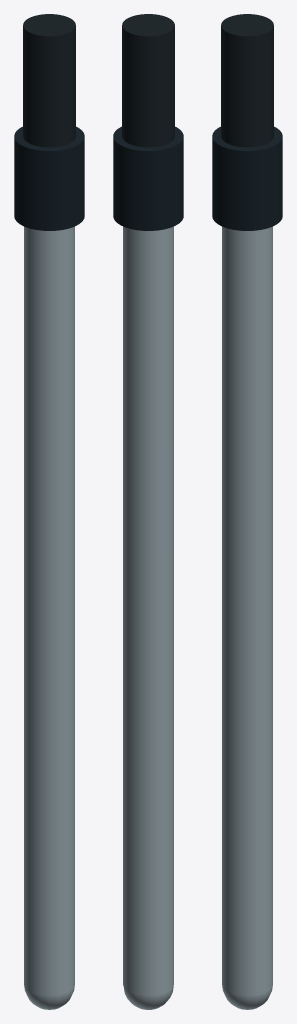
Rendered from probe.glb.
3 renders of one model, left to right at view 1: azimuth 90°, elevation 25°; view 2: azimuth 150°, elevation 25°; view 3: azimuth 270°, elevation 25°, orthographic.
Parts seen in each view (by area): view 1: stainless-steel, matte-polymer, black-anodised; view 2: stainless-steel, matte-polymer, black-anodised; view 3: stainless-steel, matte-polymer, black-anodised.
Part boxes in pixels (x1,y1,x2,y2): stainless-steel: (24, 226, 74, 1009); matte-polymer: (23, 14, 75, 147); black-anodised: (14, 126, 84, 230); stainless-steel: (123, 226, 173, 1009); matte-polymer: (122, 14, 174, 147); black-anodised: (113, 126, 183, 230); stainless-steel: (222, 226, 272, 1009); matte-polymer: (221, 14, 273, 147); black-anodised: (212, 126, 282, 230).
Bounding box in the file's own units: 0.072 × 1.11 × 0.072.
